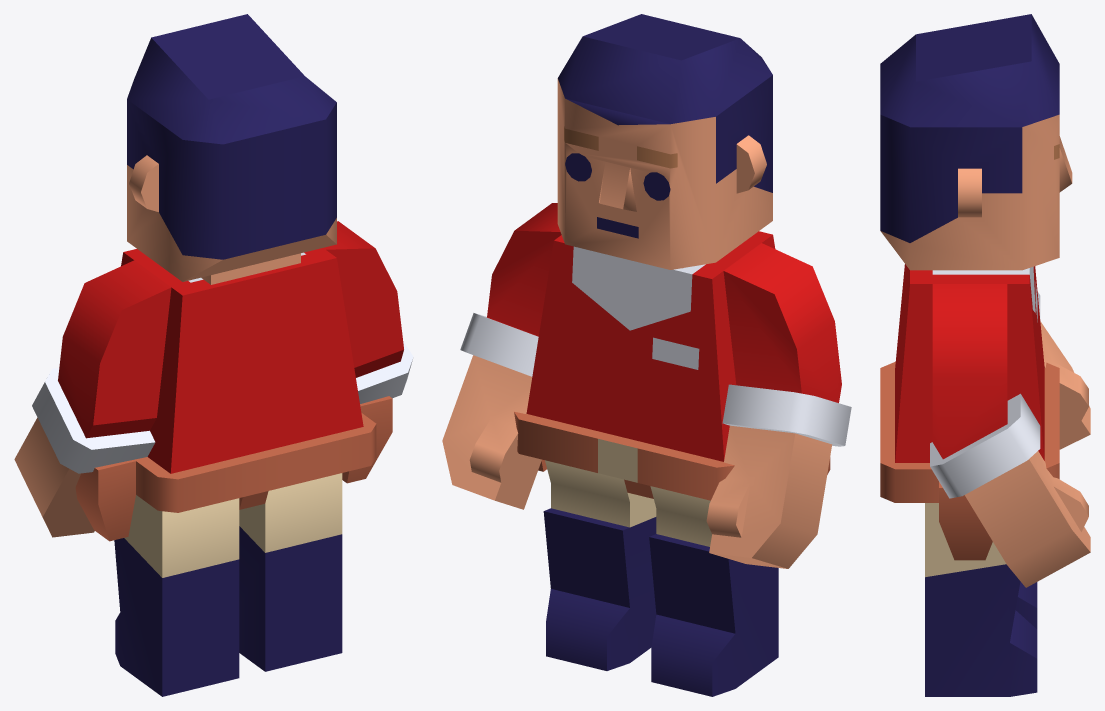
Rendered from character.glb.
3 views of the same model, side by side, from view 1: azimuth 30°, elevation 25°; view 2: azimuth 150°, elevation 25°; view 3: azimuth 270°, elevation 25° (orthographic). The views are drawn at different scales.
Parts seen in each view (by area): view 1: leg_bootsHigh (×2), torso_suit, arm_short (×2), head_default, hair_short, belt_holster; view 2: arm_short (×2), leg_bootsHigh (×2), torso_suit, head_default, hair_short, belt_holster; view 3: arm_short (×2), head_default, hair_short, leg_bootsHigh (×2), torso_suit, belt_holster.
Part boxes in pixels (bbox=[...]): leg_bootsHigh (×2): bbox=[114, 473, 342, 696]; torso_suit: bbox=[121, 248, 363, 509]; arm_short (×2): bbox=[14, 221, 413, 537]; head_default: bbox=[127, 99, 336, 284]; hair_short: bbox=[127, 14, 336, 144]; belt_holster: bbox=[75, 396, 392, 541]; arm_short (×2): bbox=[442, 203, 851, 568]; leg_bootsHigh (×2): bbox=[543, 460, 778, 696]; torso_suit: bbox=[526, 231, 775, 498]; head_default: bbox=[557, 75, 772, 269]; hair_short: bbox=[558, 14, 772, 124]; belt_holster: bbox=[514, 411, 830, 500]; arm_short (×2): bbox=[930, 284, 1090, 587]; head_default: bbox=[880, 114, 1072, 270]; hair_short: bbox=[880, 14, 1059, 127]; leg_bootsHigh (×2): bbox=[925, 503, 1037, 696]; torso_suit: bbox=[895, 264, 1044, 462]; belt_holster: bbox=[880, 361, 1059, 560].
Bounding box in the file's own units: 0.5401 × 0.9074 × 0.2816.
